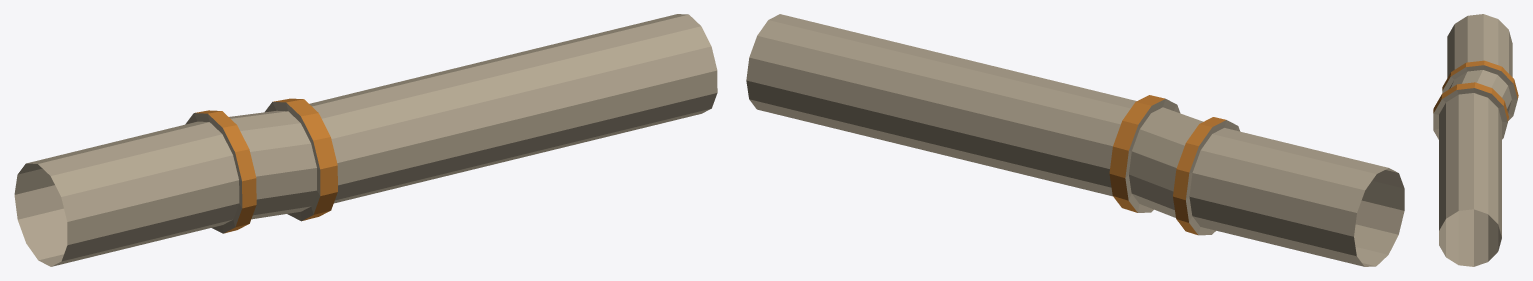
Rendered from ShortPipe1.fbx.
3 views of the same model, side by side, from view 1: azimuth 30°, elevation 25°; view 2: azimuth 150°, elevation 25°; view 3: azimuth 270°, elevation 25° (orthographic). The views are drawn at different scales.
Parts seen in each view (by area): view 1: Metal; view 2: Metal; view 3: Metal.
Boxes of the visible parts, x1,y1,x2,y2 form: Metal: (14, 14, 717, 266); Metal: (746, 14, 1404, 266); Metal: (1433, 14, 1518, 266).
Bounding box in the file's own units: 13.86 × 2.57 × 2.32.
